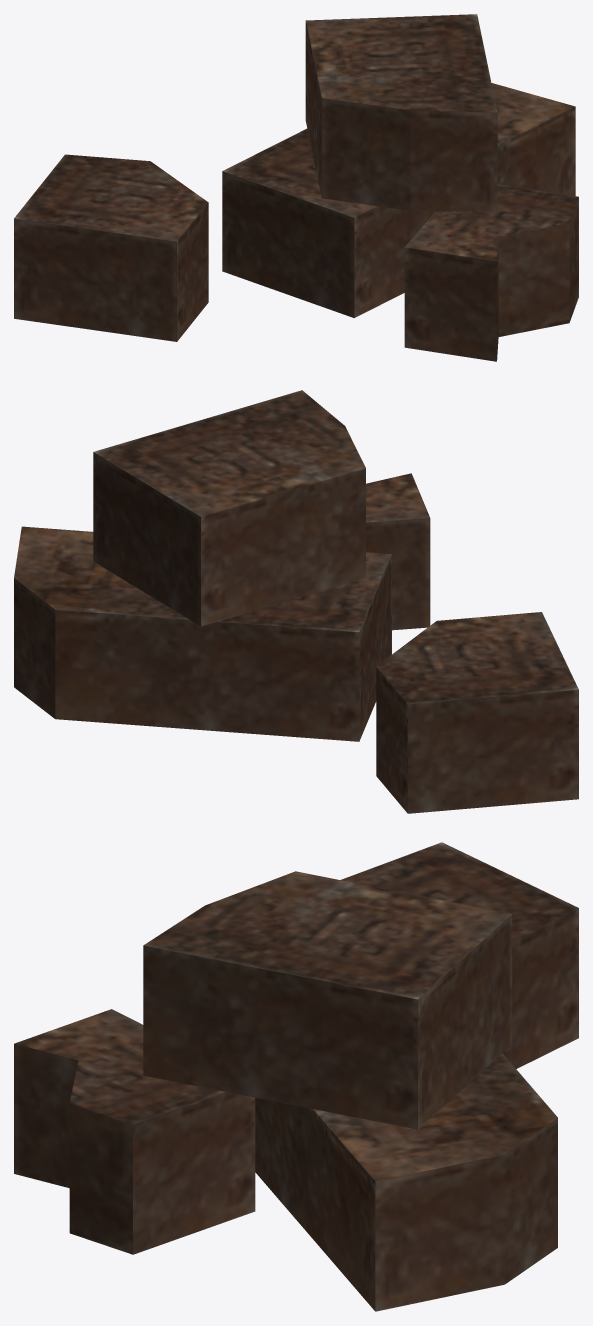
File: bricks_stacked_mx_4.obj
3 renders of one model, top to bottom at view 1: azimuth 30°, elevation 25°; view 2: azimuth 150°, elevation 25°; view 3: azimuth 270°, elevation 25°, orthographic. The views are drawn at different scales.
Parts seen in each view (by area): view 1: bricks_stacked_mx_4; view 2: bricks_stacked_mx_4; view 3: bricks_stacked_mx_4.
Part boxes in pixels (x1,y1,x2,y2): bricks_stacked_mx_4: (14, 14, 578, 361); bricks_stacked_mx_4: (14, 390, 578, 813); bricks_stacked_mx_4: (14, 842, 578, 1311).
Bounding box in the file's own units: 0.5033 × 0.18 × 0.3541.
